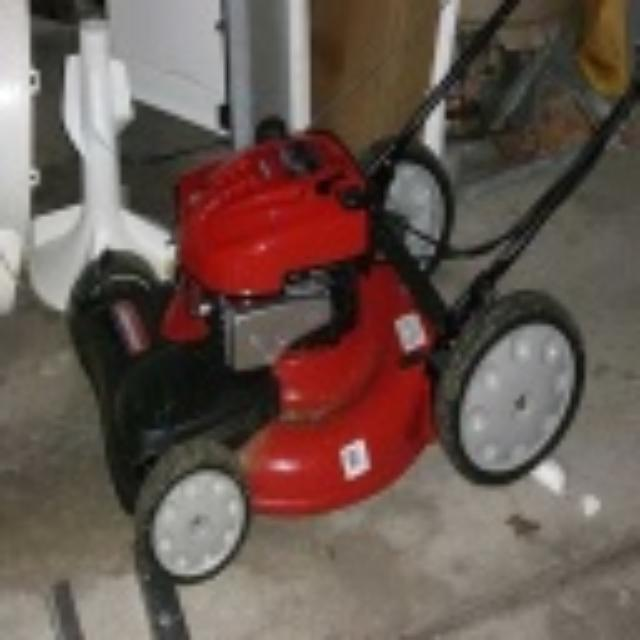Rotary-Mower: (21, 0, 635, 588)
